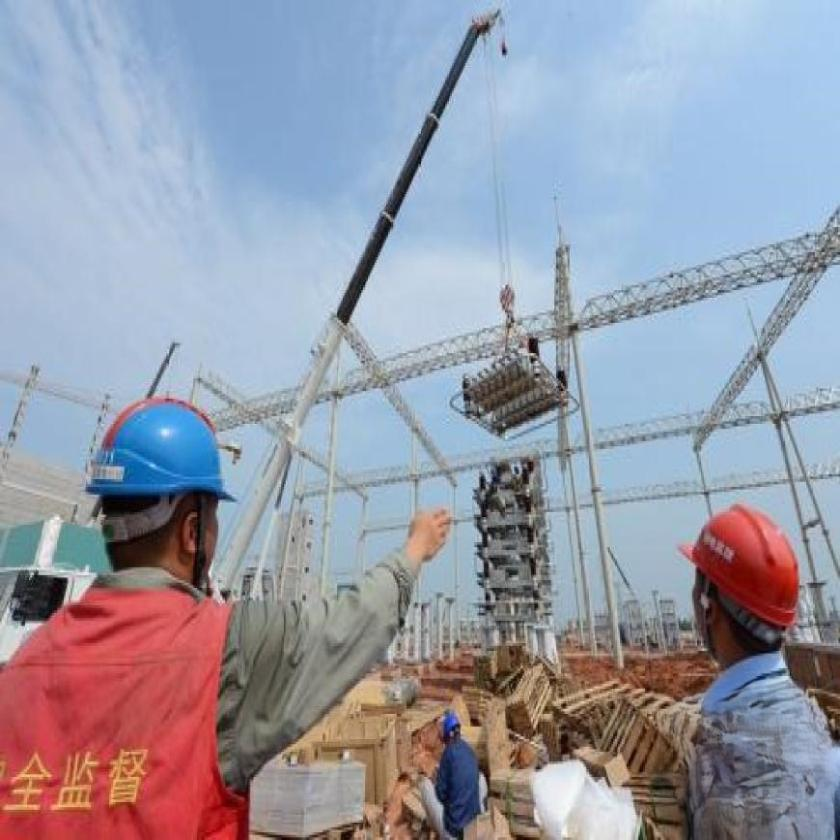Con_casco: (75, 376, 234, 593), (674, 499, 806, 666)
